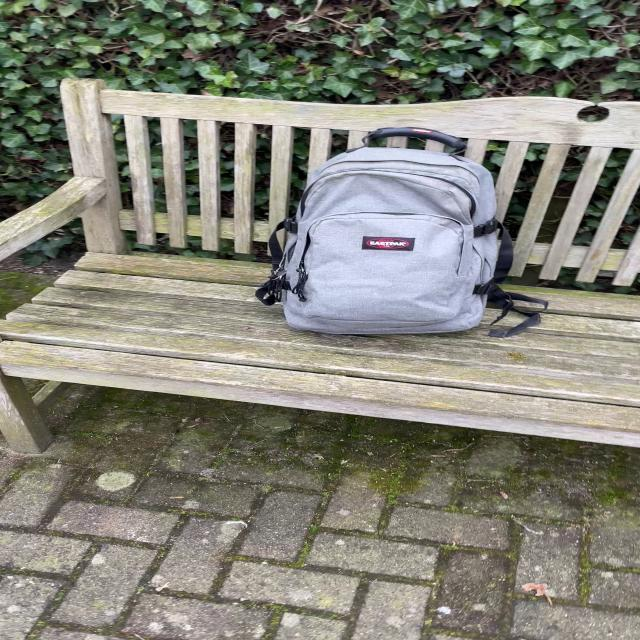backpack: (254, 122, 519, 340)
